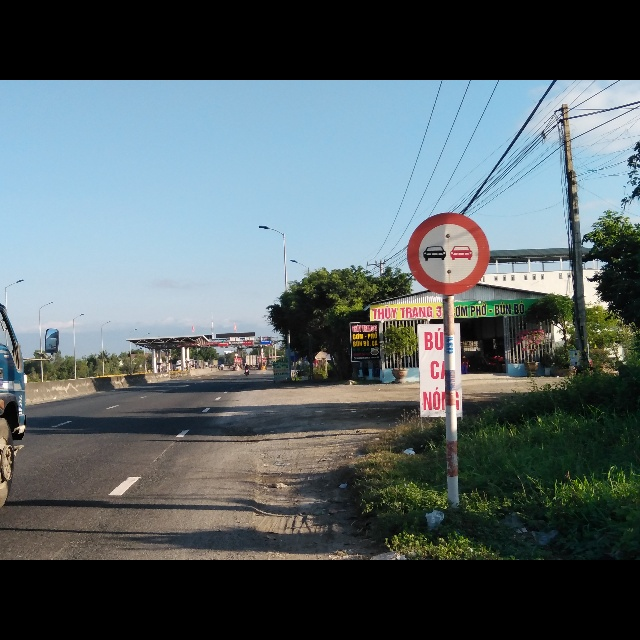Cấm vượt: (407, 211, 493, 295)
